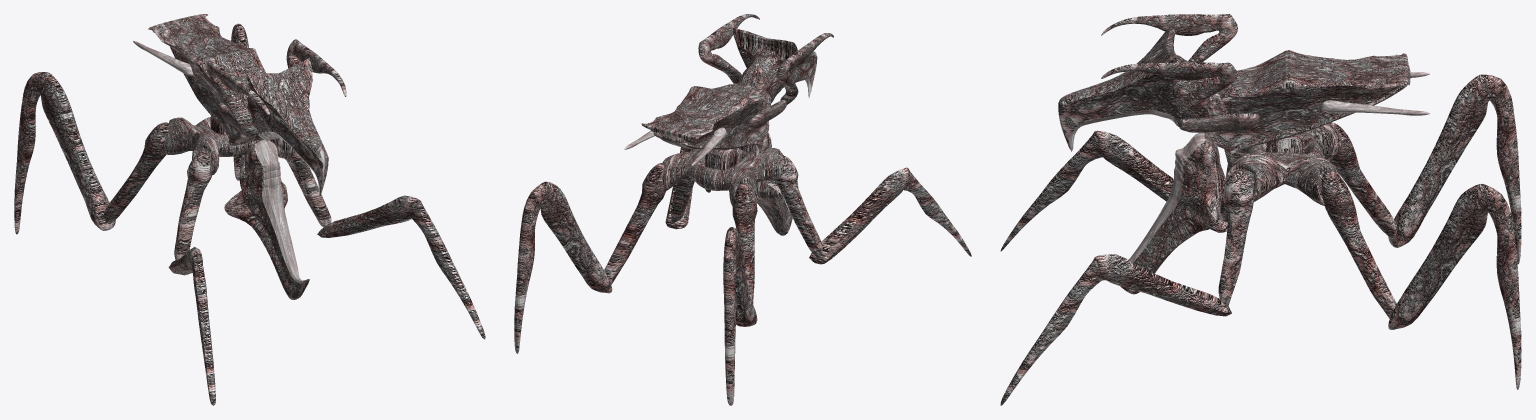
The model's file is bug.obj.
The picture shows the model from 3 angles, left to right: view 1: azimuth 30°, elevation 25°; view 2: azimuth 150°, elevation 25°; view 3: azimuth 270°, elevation 25°; orthographic projection. The views are drawn at different scales.
Parts seen in each view (by area): view 1: ARAK-AFT-L, ARAK-FOR_S, ARAK-BACK-, FRONTLEGLE, TOP-BEAK, SIDE-LOW-J, LEG-MOUNT, Inside-LOW, ARAK-FOR-L, SIDE-BEAK, ARAK-ROSTR, ARAK-BODY1 (+4 smaller); view 2: ARAK-FOR_S, BACK-LEGLE, LEG-MOUNT, ARAK-FOR-L, ARAK-BACK-, ARAK-AFT-L, TOP-BEAK, ARAK-BODY1, ROSTRAL-FR, SIDE-BEAK, BOTTOM-JAW, ARAK-ROSTR (+4 smaller); view 3: ARAK-FOR_S, ARAK-AFT-L, BACK-LEGLE, ARAK-BODY1, ARAK-BACK-, FRONTLEGLE, LEG-MOUNT, SIDE-LOW-J, ARAK-FOR-L, SIDE-BEAK, ROSTRAL-FR, ARAK-ROSTR (+7 smaller).
Part boxes in pixels (x1,y1,x2,y2): ARAK-AFT-L: [14, 72, 115, 234]; ARAK-FOR_S: [103, 122, 331, 260]; ARAK-BACK-: [148, 14, 265, 99]; FRONTLEGLE: [317, 195, 485, 339]; TOP-BEAK: [246, 58, 328, 196]; SIDE-LOW-J: [224, 143, 303, 299]; LEG-MOUNT: [160, 116, 295, 175]; Inside-LOW: [254, 140, 309, 285]; ARAK-FOR-L: [168, 247, 215, 405]; SIDE-BEAK: [246, 73, 328, 186]; ARAK-ROSTR: [206, 60, 269, 136]; ARAK-BODY1: [165, 43, 265, 143]; ARAK-FOR_S: [604, 148, 822, 304]; BACK-LEGLE: [514, 181, 612, 353]; LEG-MOUNT: [661, 148, 784, 205]; ARAK-FOR-L: [809, 167, 971, 264]; ARAK-BACK-: [641, 84, 760, 139]; ARAK-AFT-L: [723, 227, 757, 405]; TOP-BEAK: [732, 27, 816, 92]; ARAK-BODY1: [651, 92, 769, 145]; ROSTRAL-FR: [698, 14, 759, 84]; SIDE-BEAK: [733, 32, 817, 102]; BOTTOM-JAW: [739, 144, 787, 235]; ARAK-ROSTR: [776, 33, 833, 104]; ARAK-FOR_S: [1218, 122, 1396, 318]; ARAK-AFT-L: [1388, 74, 1521, 264]; BACK-LEGLE: [1388, 184, 1521, 389]; ARAK-BODY1: [1206, 85, 1401, 151]; ARAK-BACK-: [1218, 50, 1408, 100]; FRONTLEGLE: [1000, 254, 1231, 405]; LEG-MOUNT: [1224, 123, 1341, 205]; SIDE-LOW-J: [1120, 142, 1216, 292]; ARAK-FOR-L: [1000, 130, 1227, 251]; SIDE-BEAK: [1058, 28, 1217, 139]; ROSTRAL-FR: [1101, 62, 1237, 127]; ARAK-ROSTR: [1101, 14, 1237, 62].
Bounding box in the file's own units: 2.71 × 2.37 × 3.84.
Materials: 21 (21 with a texture image).
